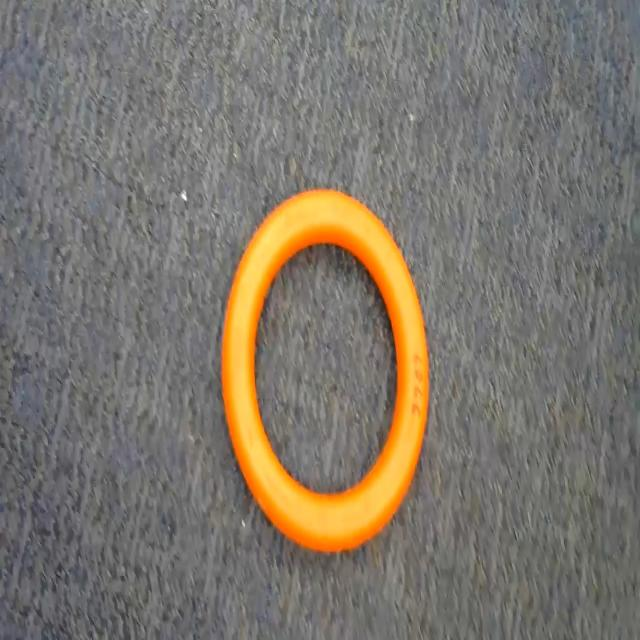note: (211, 176, 449, 564)
